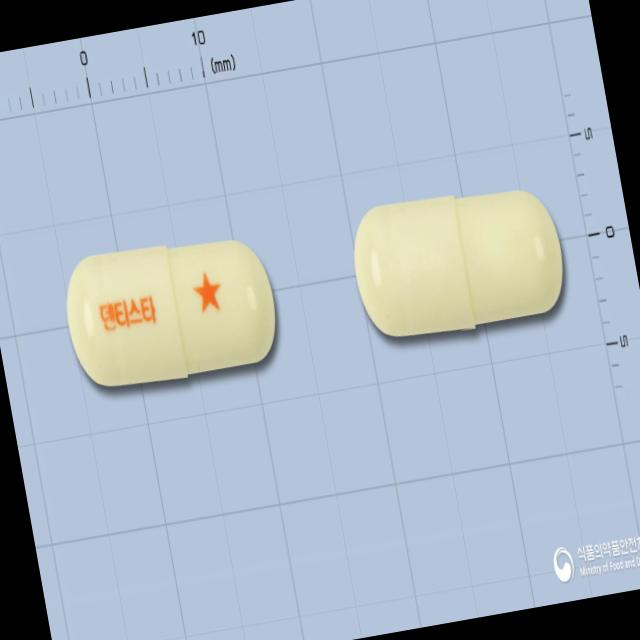Dentistar Cap: (55, 222, 287, 397)
